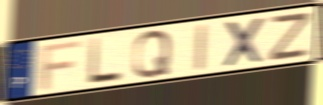F: (39, 39, 83, 91)
I: (194, 21, 209, 73)
L: (87, 36, 124, 87)
Q: (131, 28, 173, 80)
X: (222, 15, 267, 70)
Z: (266, 9, 314, 63)
